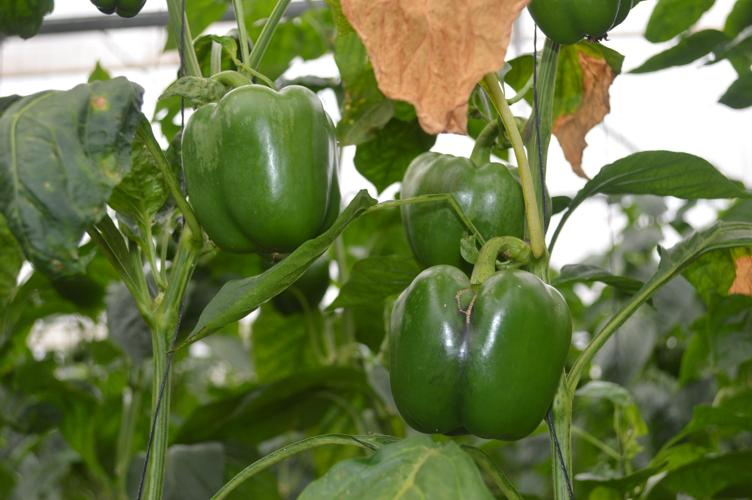BellPepper: (378, 267, 578, 449), (173, 79, 351, 258), (384, 136, 532, 269)
